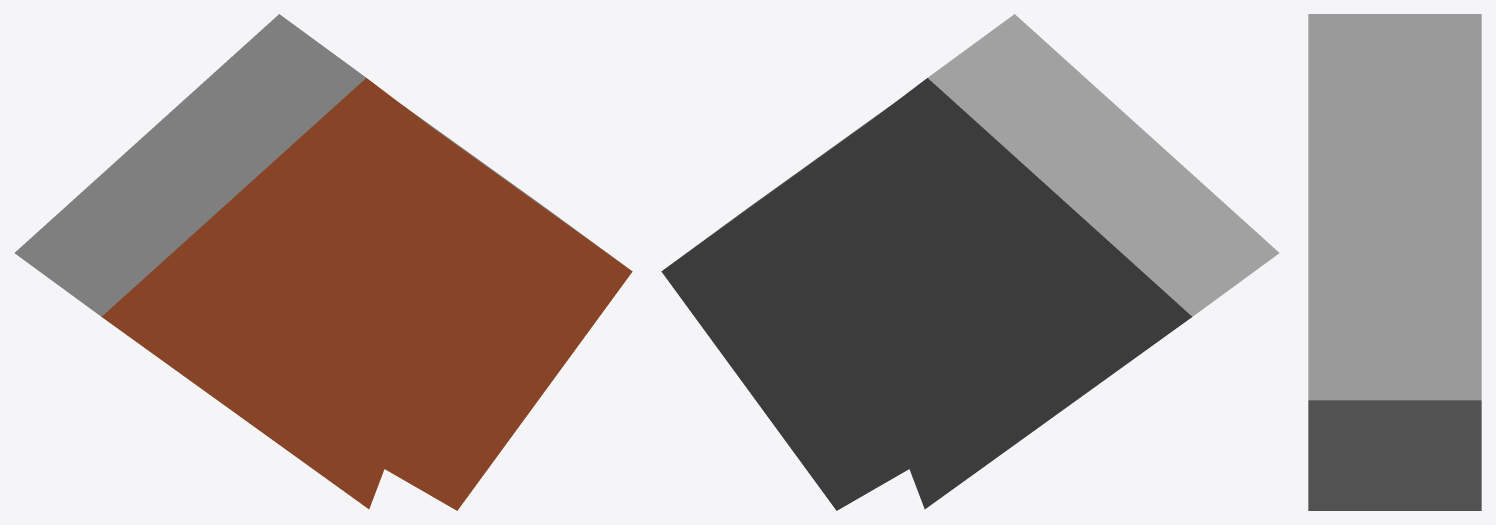
The model's file is construction_5834_assumed_A_Casa_h6m.obj.
3 renders of one model, left to right at view 1: azimuth 30°, elevation 25°; view 2: azimuth 150°, elevation 25°; view 3: azimuth 270°, elevation 25°, orthographic.
Parts seen in each view (by area): view 1: construction_5834_assumed_A_Casa; view 2: construction_5834_assumed_A_Casa; view 3: construction_5834_assumed_A_Casa.
Boxes of the visible parts, x1,y1,x2,y2 form: construction_5834_assumed_A_Casa: (14,14,632,510); construction_5834_assumed_A_Casa: (661,14,1279,510); construction_5834_assumed_A_Casa: (1308,14,1481,510).
Bounding box in the file's own units: 21.1 × 17.28 × 6.
